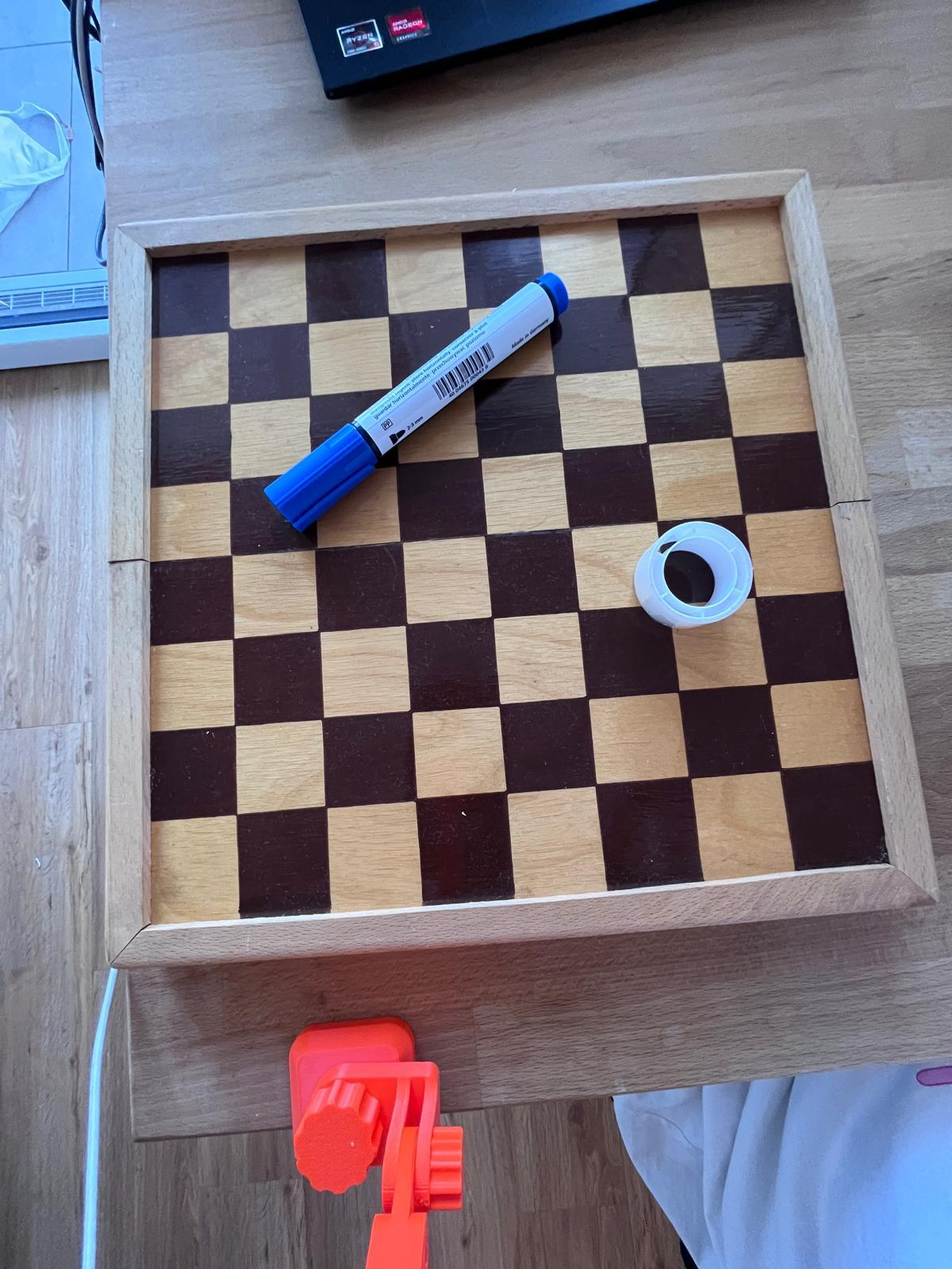marker: (260, 274, 576, 530)
tape: (638, 522, 755, 625)
